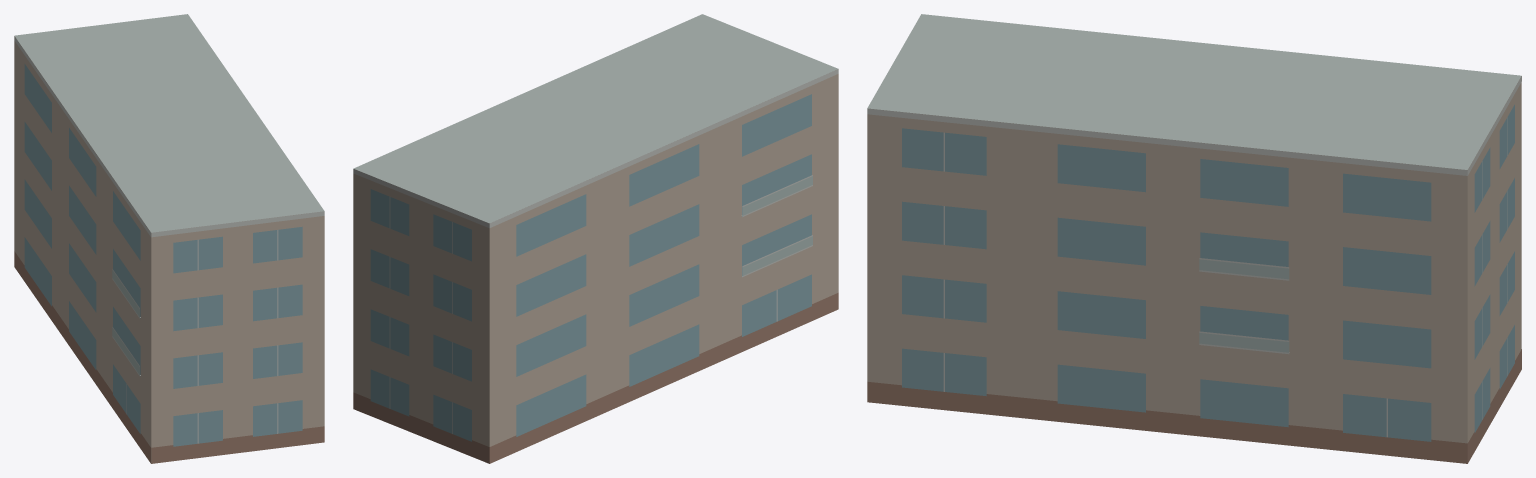
The model's file is residential-3fcce388-a203-4faa-bb74-27892f3a21c4.glb.
The picture shows the model from 3 angles, left to right: view 1: azimuth 30°, elevation 25°; view 2: azimuth 150°, elevation 25°; view 3: azimuth 270°, elevation 25°; orthographic projection. The views are drawn at different scales.
Visible parts, largest first — view 1: residential-3fcce388-a203-4faa-bb74-27892f3a21c4.tmp; view 2: residential-3fcce388-a203-4faa-bb74-27892f3a21c4.tmp; view 3: residential-3fcce388-a203-4faa-bb74-27892f3a21c4.tmp.
Boxes of the visible parts, x1,y1,x2,y2 form: residential-3fcce388-a203-4faa-bb74-27892f3a21c4.tmp: (14, 14, 324, 463); residential-3fcce388-a203-4faa-bb74-27892f3a21c4.tmp: (353, 14, 838, 463); residential-3fcce388-a203-4faa-bb74-27892f3a21c4.tmp: (867, 14, 1521, 463).
Size of the model in its own units: 13.91 by 12.2 by 24.65.
